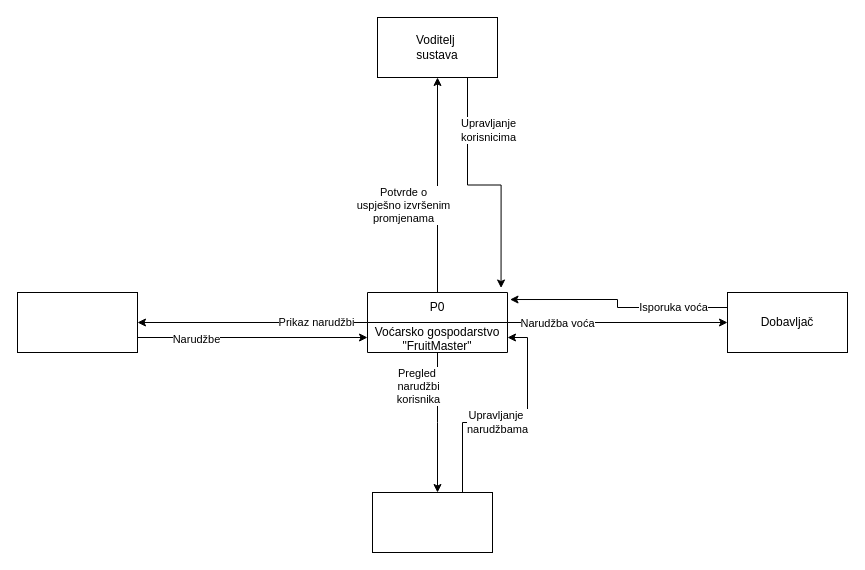
Some shapes in this 865 by 570 pixel diagram are drawn without their labels. Here are the shapes that lost their labels. From the top down, the centre of each, then its label:
At pixel 77 322: "Kupac".
At pixel 432 522: "Djelatnik".
